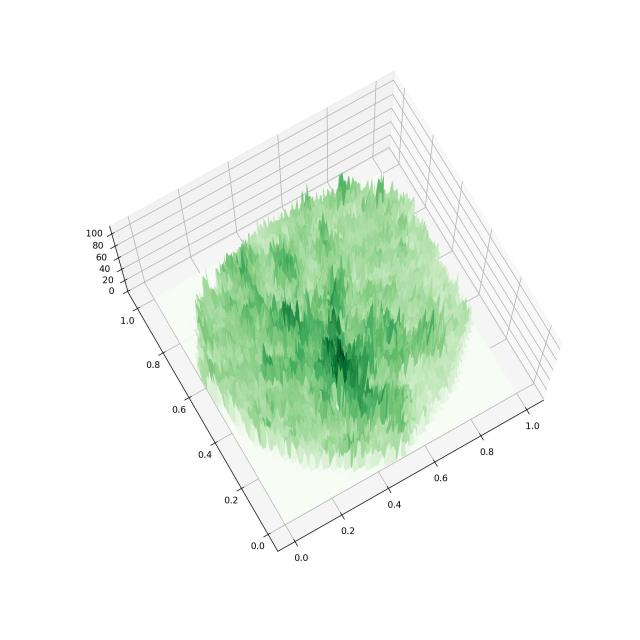spruce: (58, 44, 582, 557)
